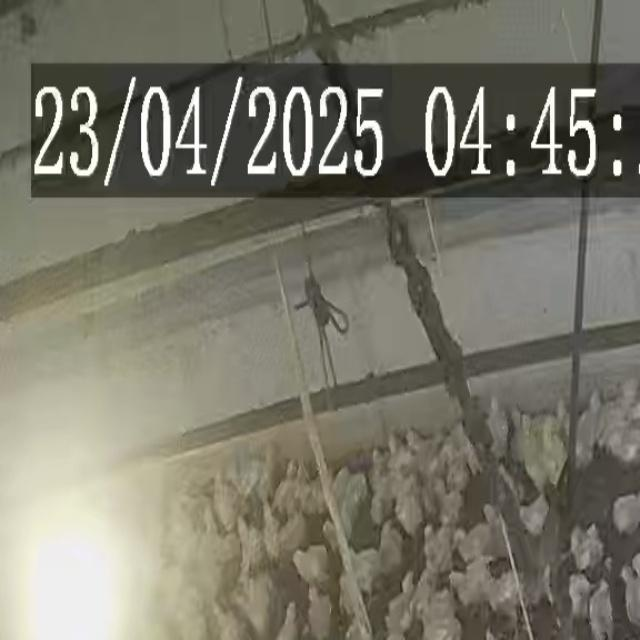chicken: (575, 392, 604, 475), (485, 503, 519, 557), (346, 537, 382, 585), (546, 417, 571, 484), (600, 392, 640, 432), (304, 584, 334, 636), (389, 572, 417, 627), (290, 545, 329, 584), (521, 413, 541, 489), (451, 564, 488, 604), (590, 578, 613, 640), (492, 570, 524, 614), (457, 529, 497, 564), (396, 494, 427, 539), (432, 481, 461, 528), (613, 491, 640, 541), (518, 495, 551, 535), (216, 466, 238, 526), (507, 401, 527, 467), (605, 430, 640, 467), (584, 523, 610, 572), (401, 564, 432, 605), (621, 563, 640, 629), (236, 520, 260, 572), (488, 395, 508, 457), (424, 527, 452, 571), (273, 600, 303, 640), (346, 471, 372, 517), (279, 511, 306, 555), (286, 467, 307, 521), (273, 460, 296, 509), (338, 574, 362, 617), (420, 616, 463, 640), (386, 424, 407, 473), (418, 588, 457, 614), (263, 507, 279, 570), (446, 453, 472, 490), (407, 429, 436, 461), (380, 522, 401, 566), (332, 459, 350, 505), (305, 474, 327, 511), (370, 444, 389, 486), (570, 524, 588, 567), (566, 578, 587, 614), (368, 484, 389, 518), (323, 523, 353, 546)
